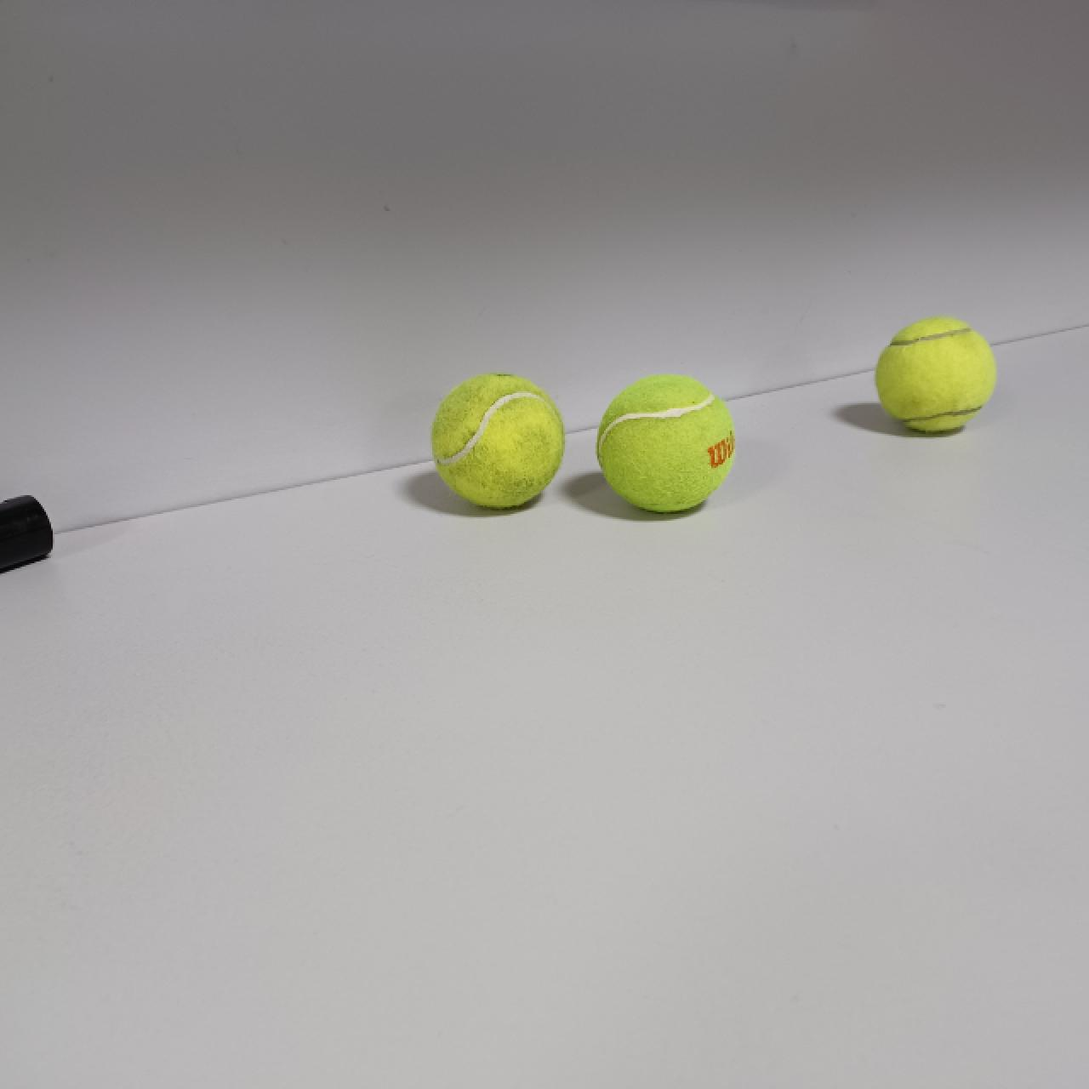tennis-ball: (593, 376, 738, 517), (433, 369, 566, 512), (874, 316, 996, 435)
